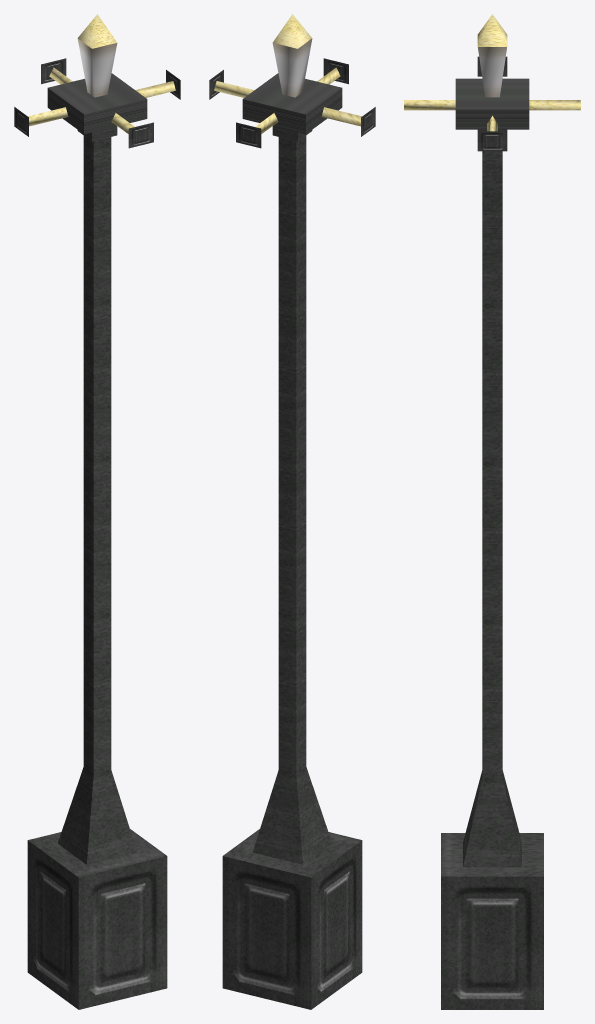
File: thm_nboo_thed_imprv_streetlamp_s01_l1.fbx
The picture shows the model from 3 angles, left to right: view 1: azimuth 30°, elevation 25°; view 2: azimuth 150°, elevation 25°; view 3: azimuth 270°, elevation 25°; orthographic projection.
Parts seen in each view (by area): view 1: mesh_node; view 2: mesh_node; view 3: mesh_node.
Boxes of the visible parts, x1,y1,x2,y2 form: mesh_node: [14, 14, 180, 1009]; mesh_node: [209, 14, 375, 1009]; mesh_node: [404, 14, 580, 1009].
Size of the model in its own units: 1.2 by 7.3 by 1.2.
